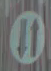Two way: (7, 2, 43, 63)
